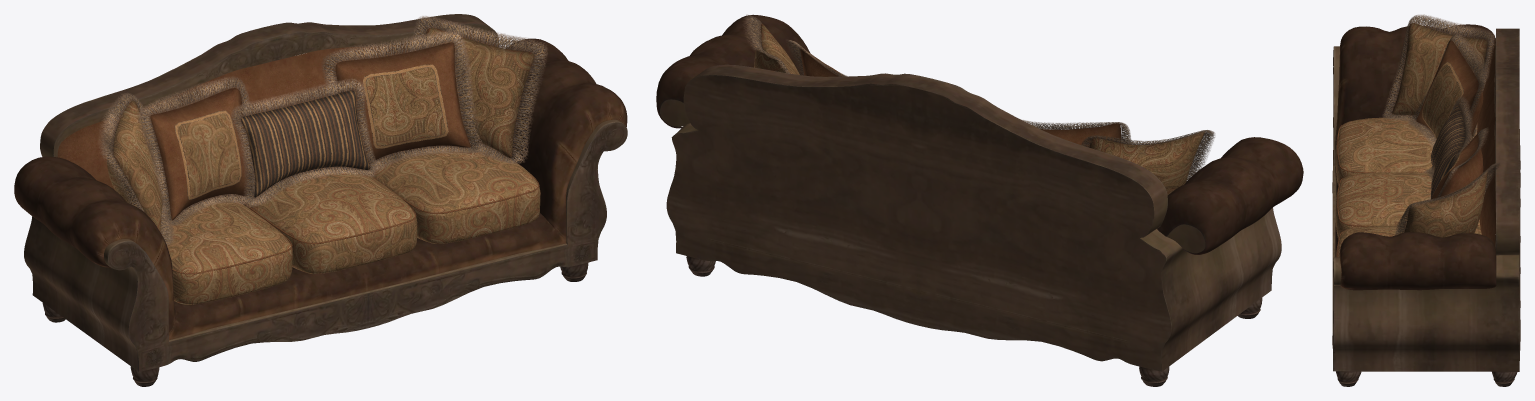
The model's file is leather_sofa.glb.
3 renders of one model, left to right at view 1: azimuth 30°, elevation 25°; view 2: azimuth 150°, elevation 25°; view 3: azimuth 270°, elevation 25°, orthographic. The views are drawn at different scales.
Visible parts, largest first — view 1: Frame, Paisley, Fringe, Brown, Stripes, Frame_Fabric; view 2: Frame, Paisley, Fringe, Brown; view 3: Frame, Paisley, Fringe, Brown, Frame_Fabric, Stripes.
Boxes of the visible parts, bbox=[...] form: Frame: bbox=[14, 14, 627, 386]; Paisley: bbox=[107, 27, 540, 304]; Fringe: bbox=[98, 16, 547, 245]; Brown: bbox=[150, 42, 539, 274]; Stripes: bbox=[174, 64, 448, 199]; Frame_Fabric: bbox=[57, 34, 494, 189]; Frame: bbox=[656, 14, 1303, 386]; Paisley: bbox=[754, 23, 1204, 194]; Fringe: bbox=[743, 14, 1214, 181]; Brown: bbox=[800, 46, 1121, 147]; Frame: bbox=[1332, 24, 1520, 386]; Paisley: bbox=[1335, 23, 1487, 257]; Fringe: bbox=[1382, 14, 1499, 235]; Brown: bbox=[1337, 40, 1483, 257]; Frame_Fabric: bbox=[1477, 39, 1495, 245]; Stripes: bbox=[1422, 61, 1472, 198].
Size of the model in its own units: 2.73 by 1.12 by 0.9232.
Materials: 6 (6 with a texture image).
